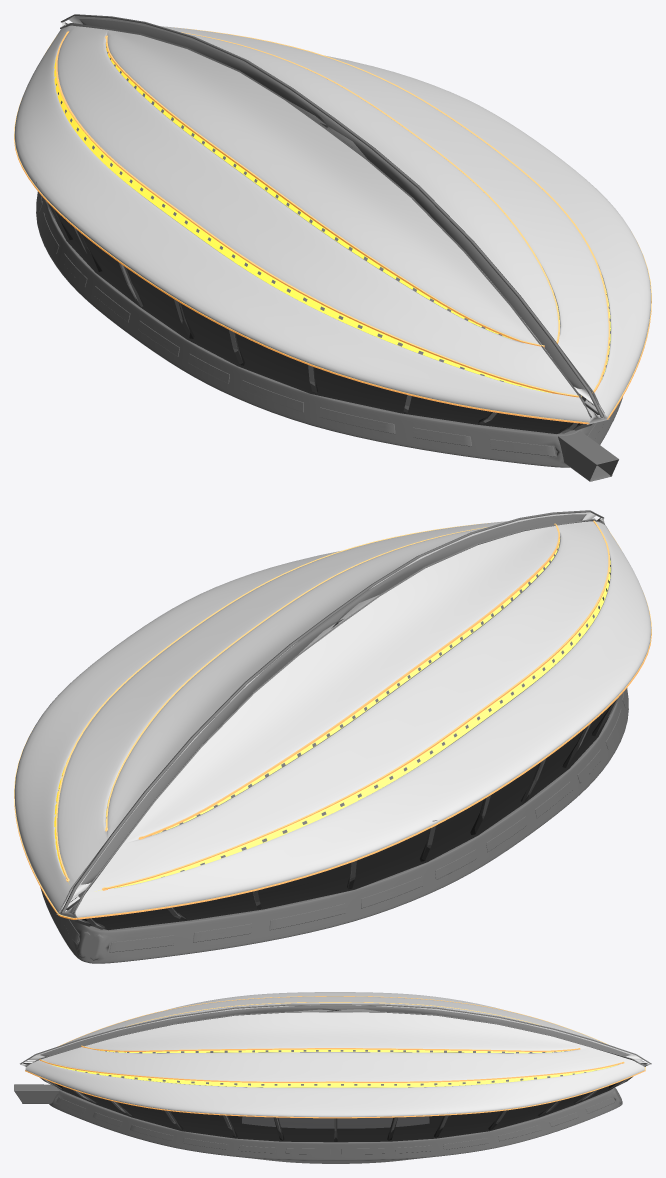
The model's file is vikingskipet.FBX.
3 views of the same model, one above another, from view 1: azimuth 30°, elevation 25°; view 2: azimuth 150°, elevation 25°; view 3: azimuth 270°, elevation 25° (orthographic). The views are drawn at different scales.
Parts seen in each view (by area): view 1: Cube_044, Cube_003, Glass, Orage_Lys, Tak__Metall, Vinduer_gule, Cube_062, Cube_002, Plane_002, Cube_042, Cube_001; view 2: Cube_044, Cube_003, Glass, Orage_Lys, Tak__Metall, Vinduer_gule, Cube_062, Cube_002, Cube_042, Cube_001; view 3: Cube_044, Cube_003, Glass, Orage_Lys, Tak__Metall, Vinduer_gule, Cube_062, Cube_002, Cube_042, Plane_002, Cube_001.
Boxes of the visible parts, x1=… form: Cube_044: x1=14, y1=25, x2=651, y2=422; Cube_003: x1=36, y1=129, x2=622, y2=467; Glass: x1=48, y1=84, x2=606, y2=433; Orage_Lys: x1=14, y1=27, x2=651, y2=424; Tak__Metall: x1=57, y1=16, x2=609, y2=424; Vinduer_gule: x1=54, y1=43, x2=610, y2=393; Cube_062: x1=38, y1=193, x2=605, y2=456; Cube_002: x1=60, y1=14, x2=604, y2=417; Plane_002: x1=558, y1=431, x2=618, y2=481; Cube_042: x1=36, y1=111, x2=593, y2=433; Cube_001: x1=65, y1=46, x2=586, y2=401; Cube_044: x1=14, y1=521, x2=651, y2=917; Cube_003: x1=40, y1=626, x2=628, y2=963; Glass: x1=58, y1=559, x2=616, y2=930; Orage_Lys: x1=14, y1=520, x2=651, y2=919; Tak__Metall: x1=56, y1=512, x2=607, y2=919; Vinduer_gule: x1=54, y1=539, x2=610, y2=891; Cube_062: x1=59, y1=689, x2=626, y2=952; Cube_002: x1=60, y1=510, x2=604, y2=913; Cube_042: x1=72, y1=607, x2=620, y2=929; Cube_001: x1=78, y1=544, x2=599, y2=897; Cube_044: x1=25, y1=992, x2=644, y2=1117; Cube_003: x1=49, y1=1086, x2=622, y2=1163; Glass: x1=47, y1=1080, x2=624, y2=1142; Orage_Lys: x1=25, y1=996, x2=645, y2=1118; Tak__Metall: x1=20, y1=1005, x2=650, y2=1066; Vinduer_gule: x1=52, y1=1049, x2=617, y2=1087; Cube_062: x1=56, y1=1097, x2=614, y2=1154; Cube_002: x1=20, y1=1004, x2=651, y2=1066; Cube_042: x1=40, y1=1076, x2=632, y2=1141; Plane_002: x1=14, y1=1084, x2=59, y2=1103; Cube_001: x1=66, y1=1050, x2=596, y2=1085.
Size of the model in its own units: 5.19 by 2.28 by 11.29.
